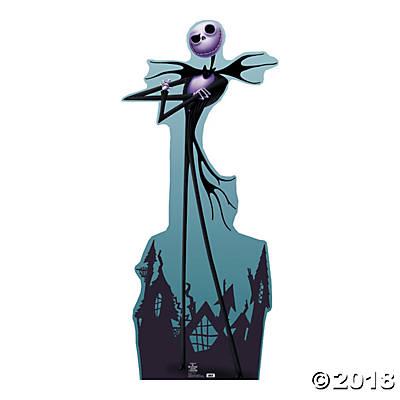Jack Skellington: (121, 19, 279, 380)
